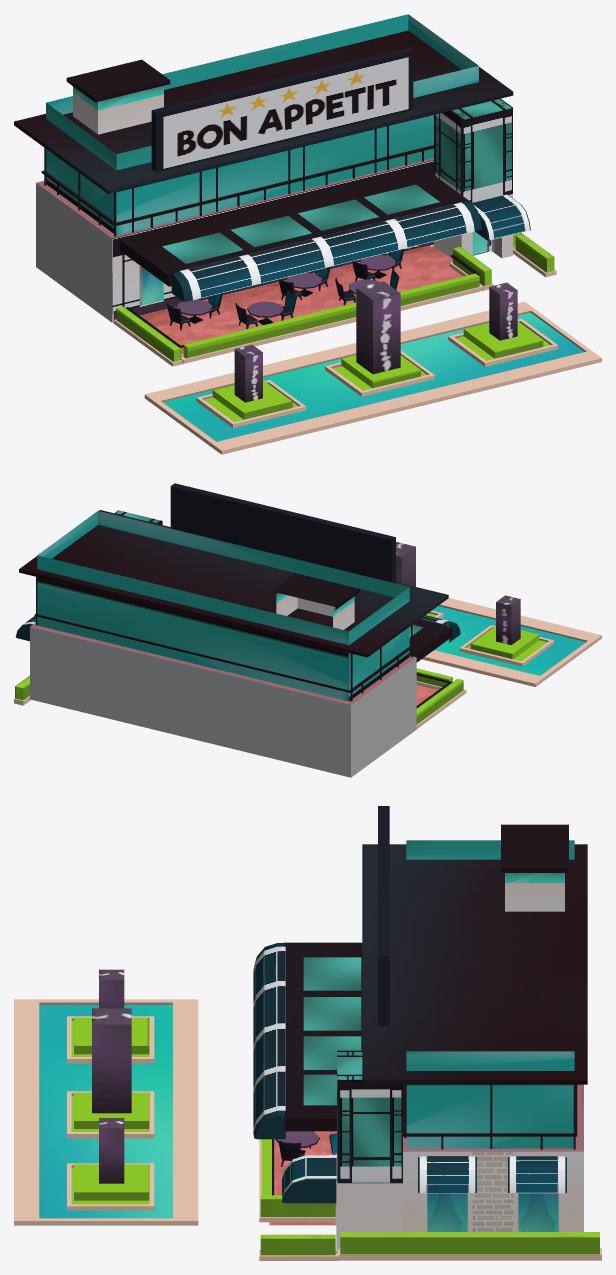
The model's file is Tx_Exterior_Business_Restaurant_T3_20170807.fbx.
The picture shows the model from 3 angles, top to bottom: view 1: azimuth 30°, elevation 25°; view 2: azimuth 150°, elevation 25°; view 3: azimuth 270°, elevation 25°; orthographic projection. The views are drawn at different scales.
Parts seen in each view (by area): view 1: Building1, window, pool1, sign, scuplture3, pool_plant2, pool_plant1, pool_plant3, scuplture2, scuplture1, chair_table3, chair_table2 (+3 smaller); view 2: Building1, window, sign, pool1, pool_plant1, scuplture1, scuplture3; view 3: Building1, window, pool1, scuplture3, pool_plant2, pool_plant3, sign, pool_plant1, scuplture2, scuplture1, chair_table5.
Part boxes in pixels (<box>): Building1: <box>14,30,556,366</box>; window: <box>46,14,512,263</box>; pool1: <box>144,301,601,454</box>; sign: <box>151,47,413,172</box>; scuplture3: <box>356,281,400,374</box>; pool_plant2: <box>448,318,558,366</box>; pool_plant1: <box>196,379,306,427</box>; pool_plant3: <box>325,350,434,396</box>; scuplture2: <box>489,282,517,340</box>; scuplture1: <box>234,344,262,402</box>; chair_table3: <box>235,290,296,329</box>; chair_table2: <box>166,293,222,330</box>; Building1: <box>14,510,466,777</box>; window: <box>37,510,423,701</box>; sign: <box>170,483,395,583</box>; pool1: <box>422,598,601,686</box>; pool_plant1: <box>459,625,554,666</box>; scuplture1: <box>496,595,520,645</box>; scuplture3: <box>396,542,415,586</box>; Building1: <box>253,824,601,1260</box>; window: <box>303,840,574,1231</box>; pool1: <box>14,999,198,1225</box>; scuplture3: <box>92,1008,131,1113</box>; pool_plant2: <box>67,1163,154,1210</box>; pool_plant3: <box>67,1091,154,1138</box>; sign: <box>378,806,389,1025</box>; pool_plant1: <box>67,1016,154,1063</box>; scuplture2: <box>99,1118,124,1183</box>; scuplture1: <box>99,969,124,1008</box>; chair_table5: <box>275,1131,319,1166</box>.
Bounding box in the file's own units: 17.36 × 7.81 × 16.44.
Materials: 2 (2 with a texture image).
